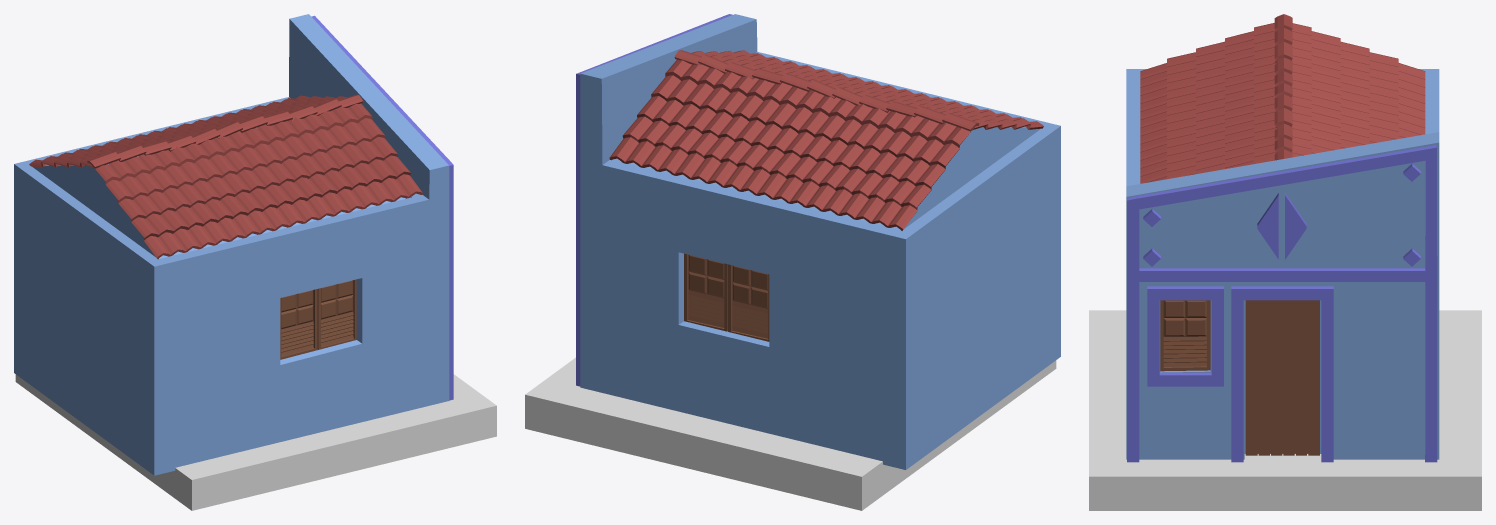
Rendered from casa3.fbx.
3 renders of one model, left to right at view 1: azimuth 30°, elevation 25°; view 2: azimuth 150°, elevation 25°; view 3: azimuth 270°, elevation 25°, orthographic. The views are drawn at different scales.
Parts seen in each view (by area): view 1: Cube.008, Cube.007; view 2: Cube.008, Cube.007; view 3: Cube.008, Cube.007.
Boxes of the visible parts, x1=… form: Cube.008: x1=14, y1=14, x2=453, y2=475; Cube.007: x1=15, y1=374, x2=496, y2=510; Cube.008: x1=576, y1=14, x2=1060, y2=469; Cube.007: x1=525, y1=357, x2=1056, y2=510; Cube.008: x1=1126, y1=14, x2=1439, y2=462; Cube.007: x1=1089, y1=310, x2=1481, y2=510.
Size of the model in its own units: 268 by 248 by 251.
